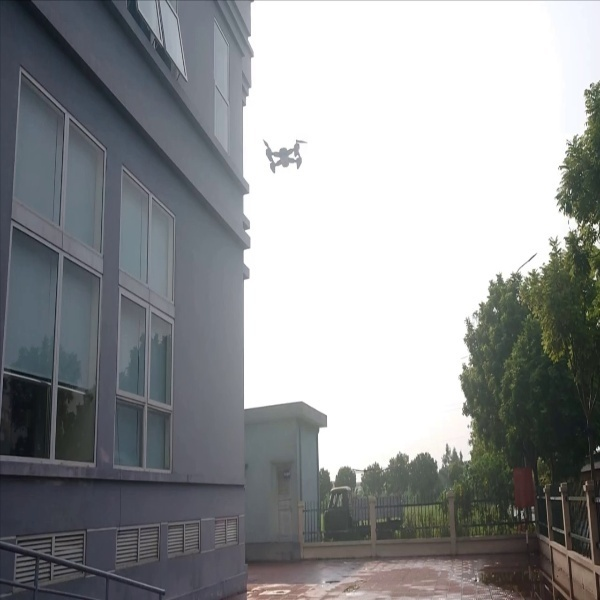drone: (255, 127, 312, 183)
